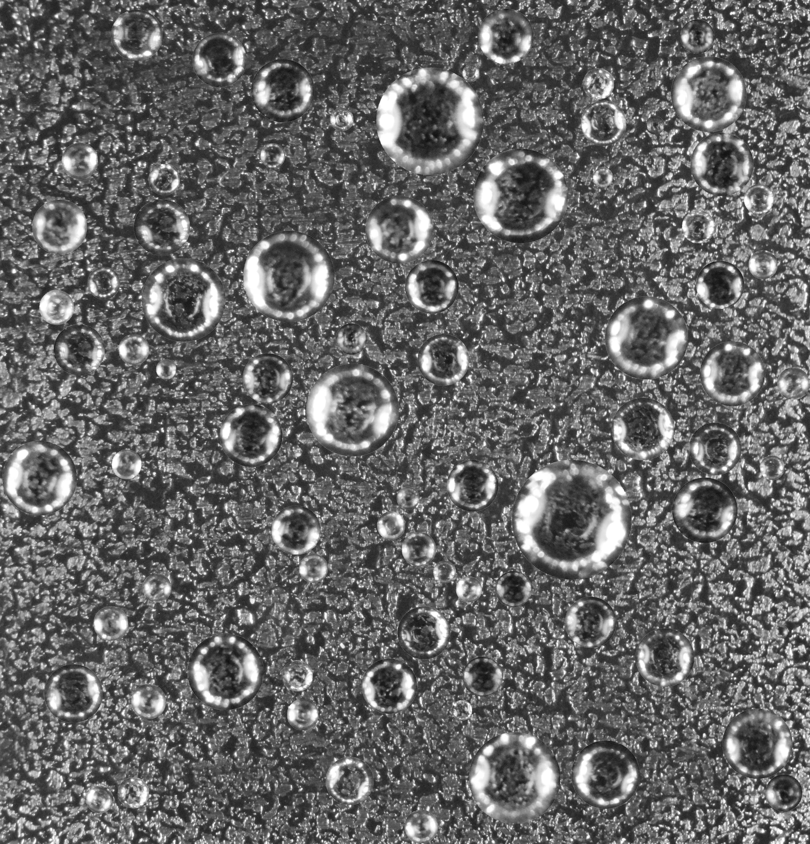Bubble: (512, 459, 631, 579), (376, 67, 483, 174), (473, 148, 568, 243), (306, 363, 398, 456), (243, 230, 334, 321), (469, 732, 560, 823), (141, 258, 225, 341), (605, 296, 688, 379), (187, 633, 263, 710), (671, 56, 746, 131), (2, 440, 76, 515), (722, 708, 792, 778), (571, 740, 639, 808), (365, 195, 433, 263), (672, 477, 737, 542), (700, 341, 764, 406), (251, 59, 314, 122), (690, 132, 753, 195), (611, 397, 674, 460), (219, 404, 282, 466), (635, 628, 694, 686), (44, 664, 102, 722), (133, 199, 189, 255), (361, 658, 417, 713), (478, 8, 533, 63), (192, 32, 246, 87), (32, 199, 86, 254), (405, 260, 458, 313), (397, 606, 450, 659), (689, 422, 741, 475), (446, 460, 498, 511), (417, 334, 469, 385), (53, 324, 104, 375), (565, 596, 616, 647), (111, 9, 162, 60), (242, 353, 292, 403), (271, 505, 320, 554), (696, 260, 744, 308), (325, 757, 373, 804), (581, 100, 626, 145), (462, 656, 502, 696), (765, 774, 802, 811), (61, 142, 97, 179), (495, 571, 531, 607), (93, 606, 128, 640), (680, 19, 714, 53), (131, 684, 165, 718), (401, 532, 435, 566), (39, 290, 73, 324), (404, 810, 437, 843), (682, 210, 714, 243), (87, 267, 119, 299), (777, 367, 809, 399), (148, 163, 179, 195), (335, 323, 367, 354), (583, 68, 614, 99), (117, 777, 148, 808), (281, 660, 312, 691), (287, 699, 318, 730), (118, 334, 149, 364), (111, 449, 141, 479), (744, 184, 773, 214), (748, 250, 777, 279), (142, 573, 171, 602), (377, 511, 405, 539), (299, 554, 327, 582), (86, 786, 113, 813), (456, 576, 481, 602), (260, 143, 285, 167), (760, 455, 784, 479), (396, 486, 419, 509), (330, 107, 353, 130), (433, 560, 455, 583), (451, 700, 472, 720), (156, 359, 176, 379), (593, 167, 612, 187), (645, 115, 664, 134), (462, 64, 479, 81), (774, 625, 788, 638), (169, 798, 179, 808)
